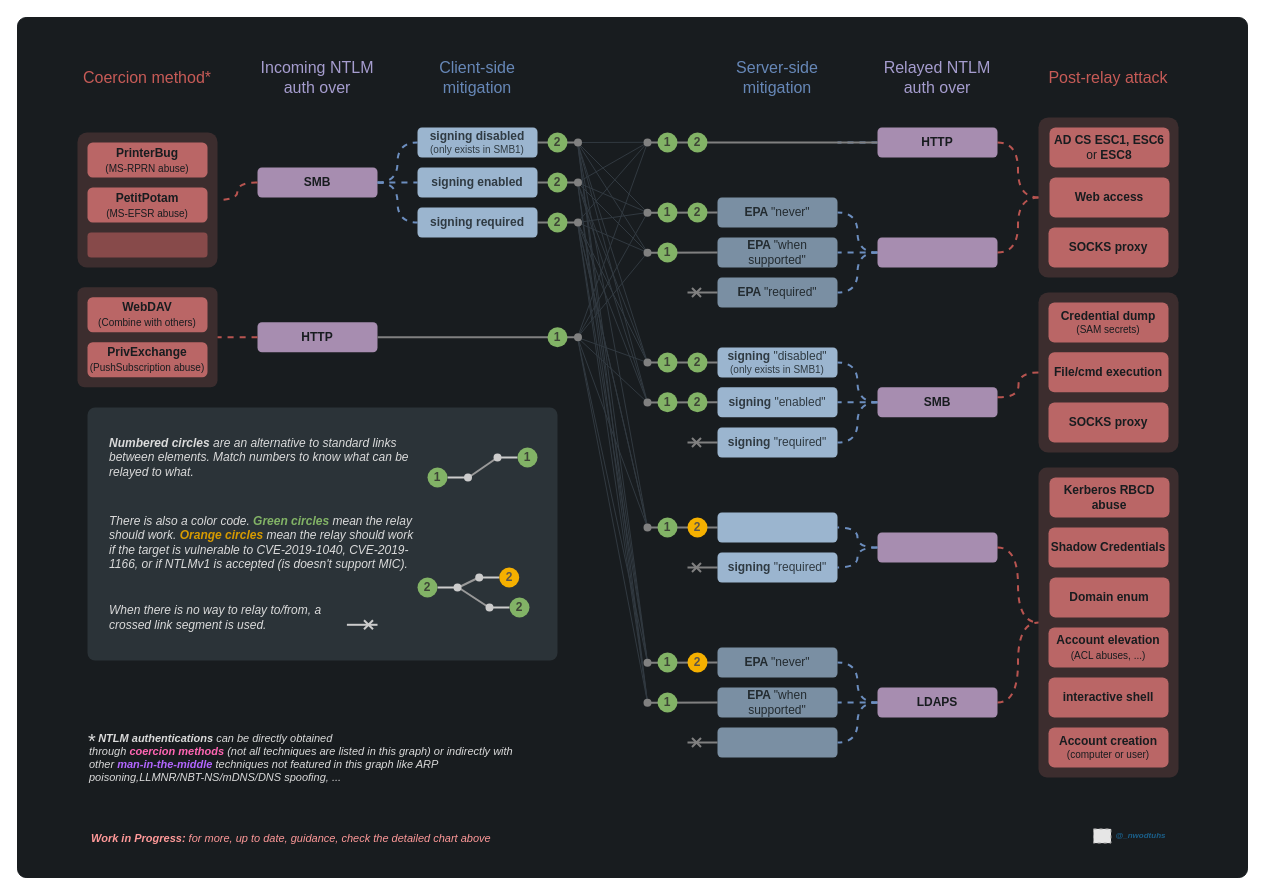
The diagram is 1265 pixels wide and 895 high, and some of its shapes have lost their labels. Grey dashed boxes stand in for pictures. Here are the shapes that lost their labels. From the top down, the centre of each, then its label:
point 147,244: etc.
point 937,252: HTTPS
point 777,527: signing "None"
point 937,547: LDAP
point 777,742: EPA "always"
